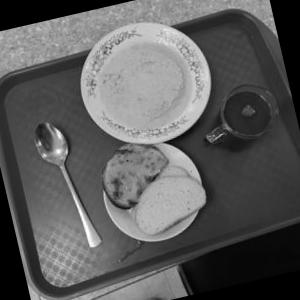bread: (123, 170, 215, 246)
cheese_sandwich: (82, 134, 182, 210)
coffee: (198, 63, 290, 165)
porridge: (73, 20, 212, 136)
